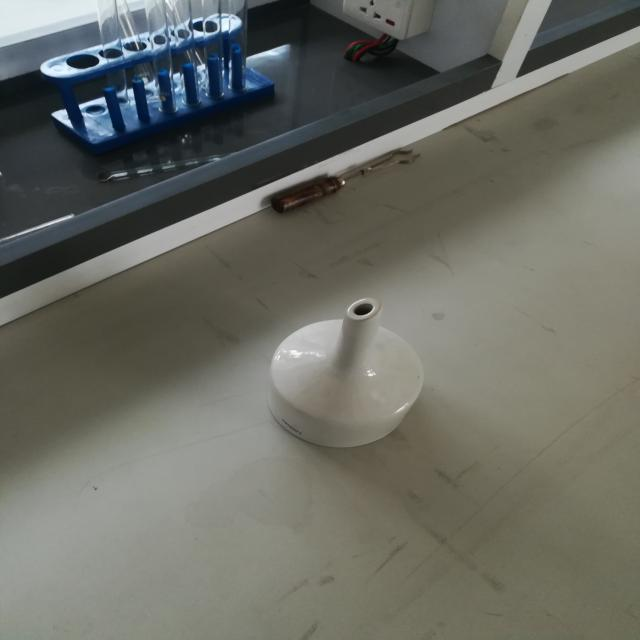Buchner_Funnel: (222, 258, 476, 490)
